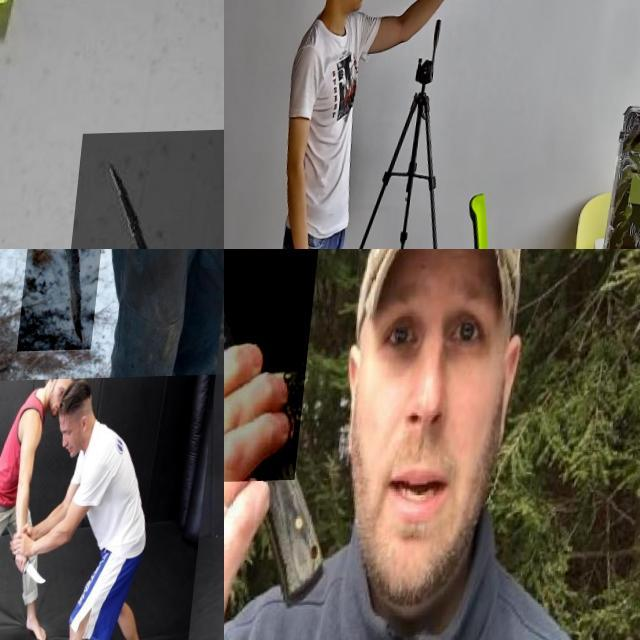-: (224, 249, 337, 485), (54, 131, 224, 249), (23, 249, 112, 352), (19, 553, 61, 588)
gun-knife-thesis - v11 Yolov5 augmented: (454, 0, 508, 40)
